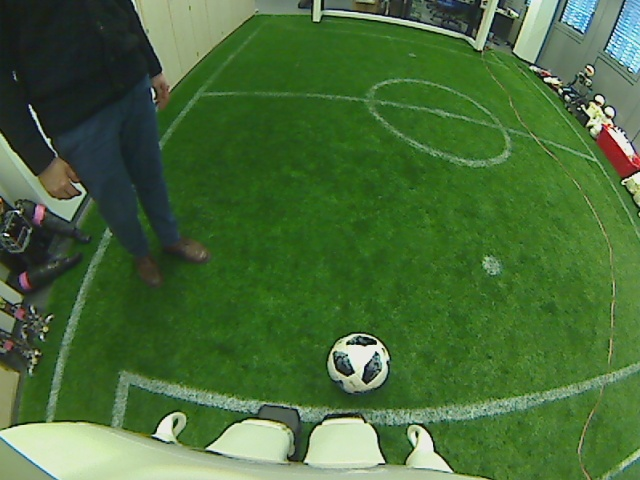ball: (326, 331, 390, 393)
